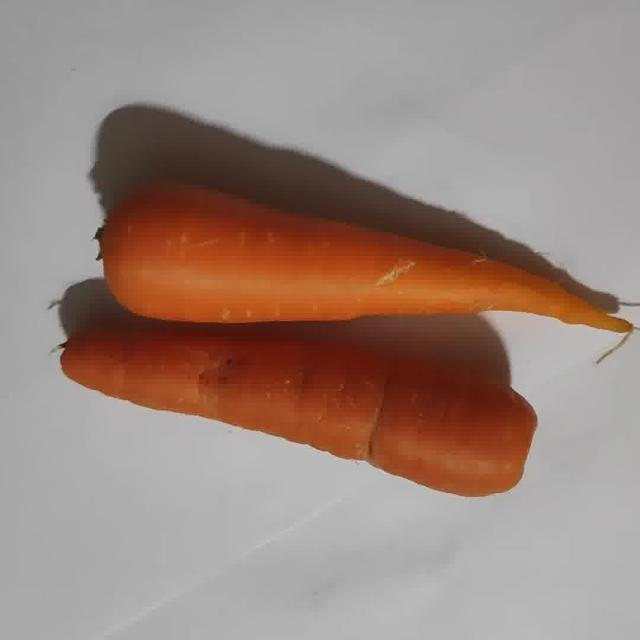Carrot: (60, 323, 537, 496), (104, 187, 633, 332)
